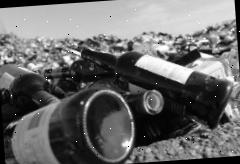glass: (0, 35, 238, 164)
